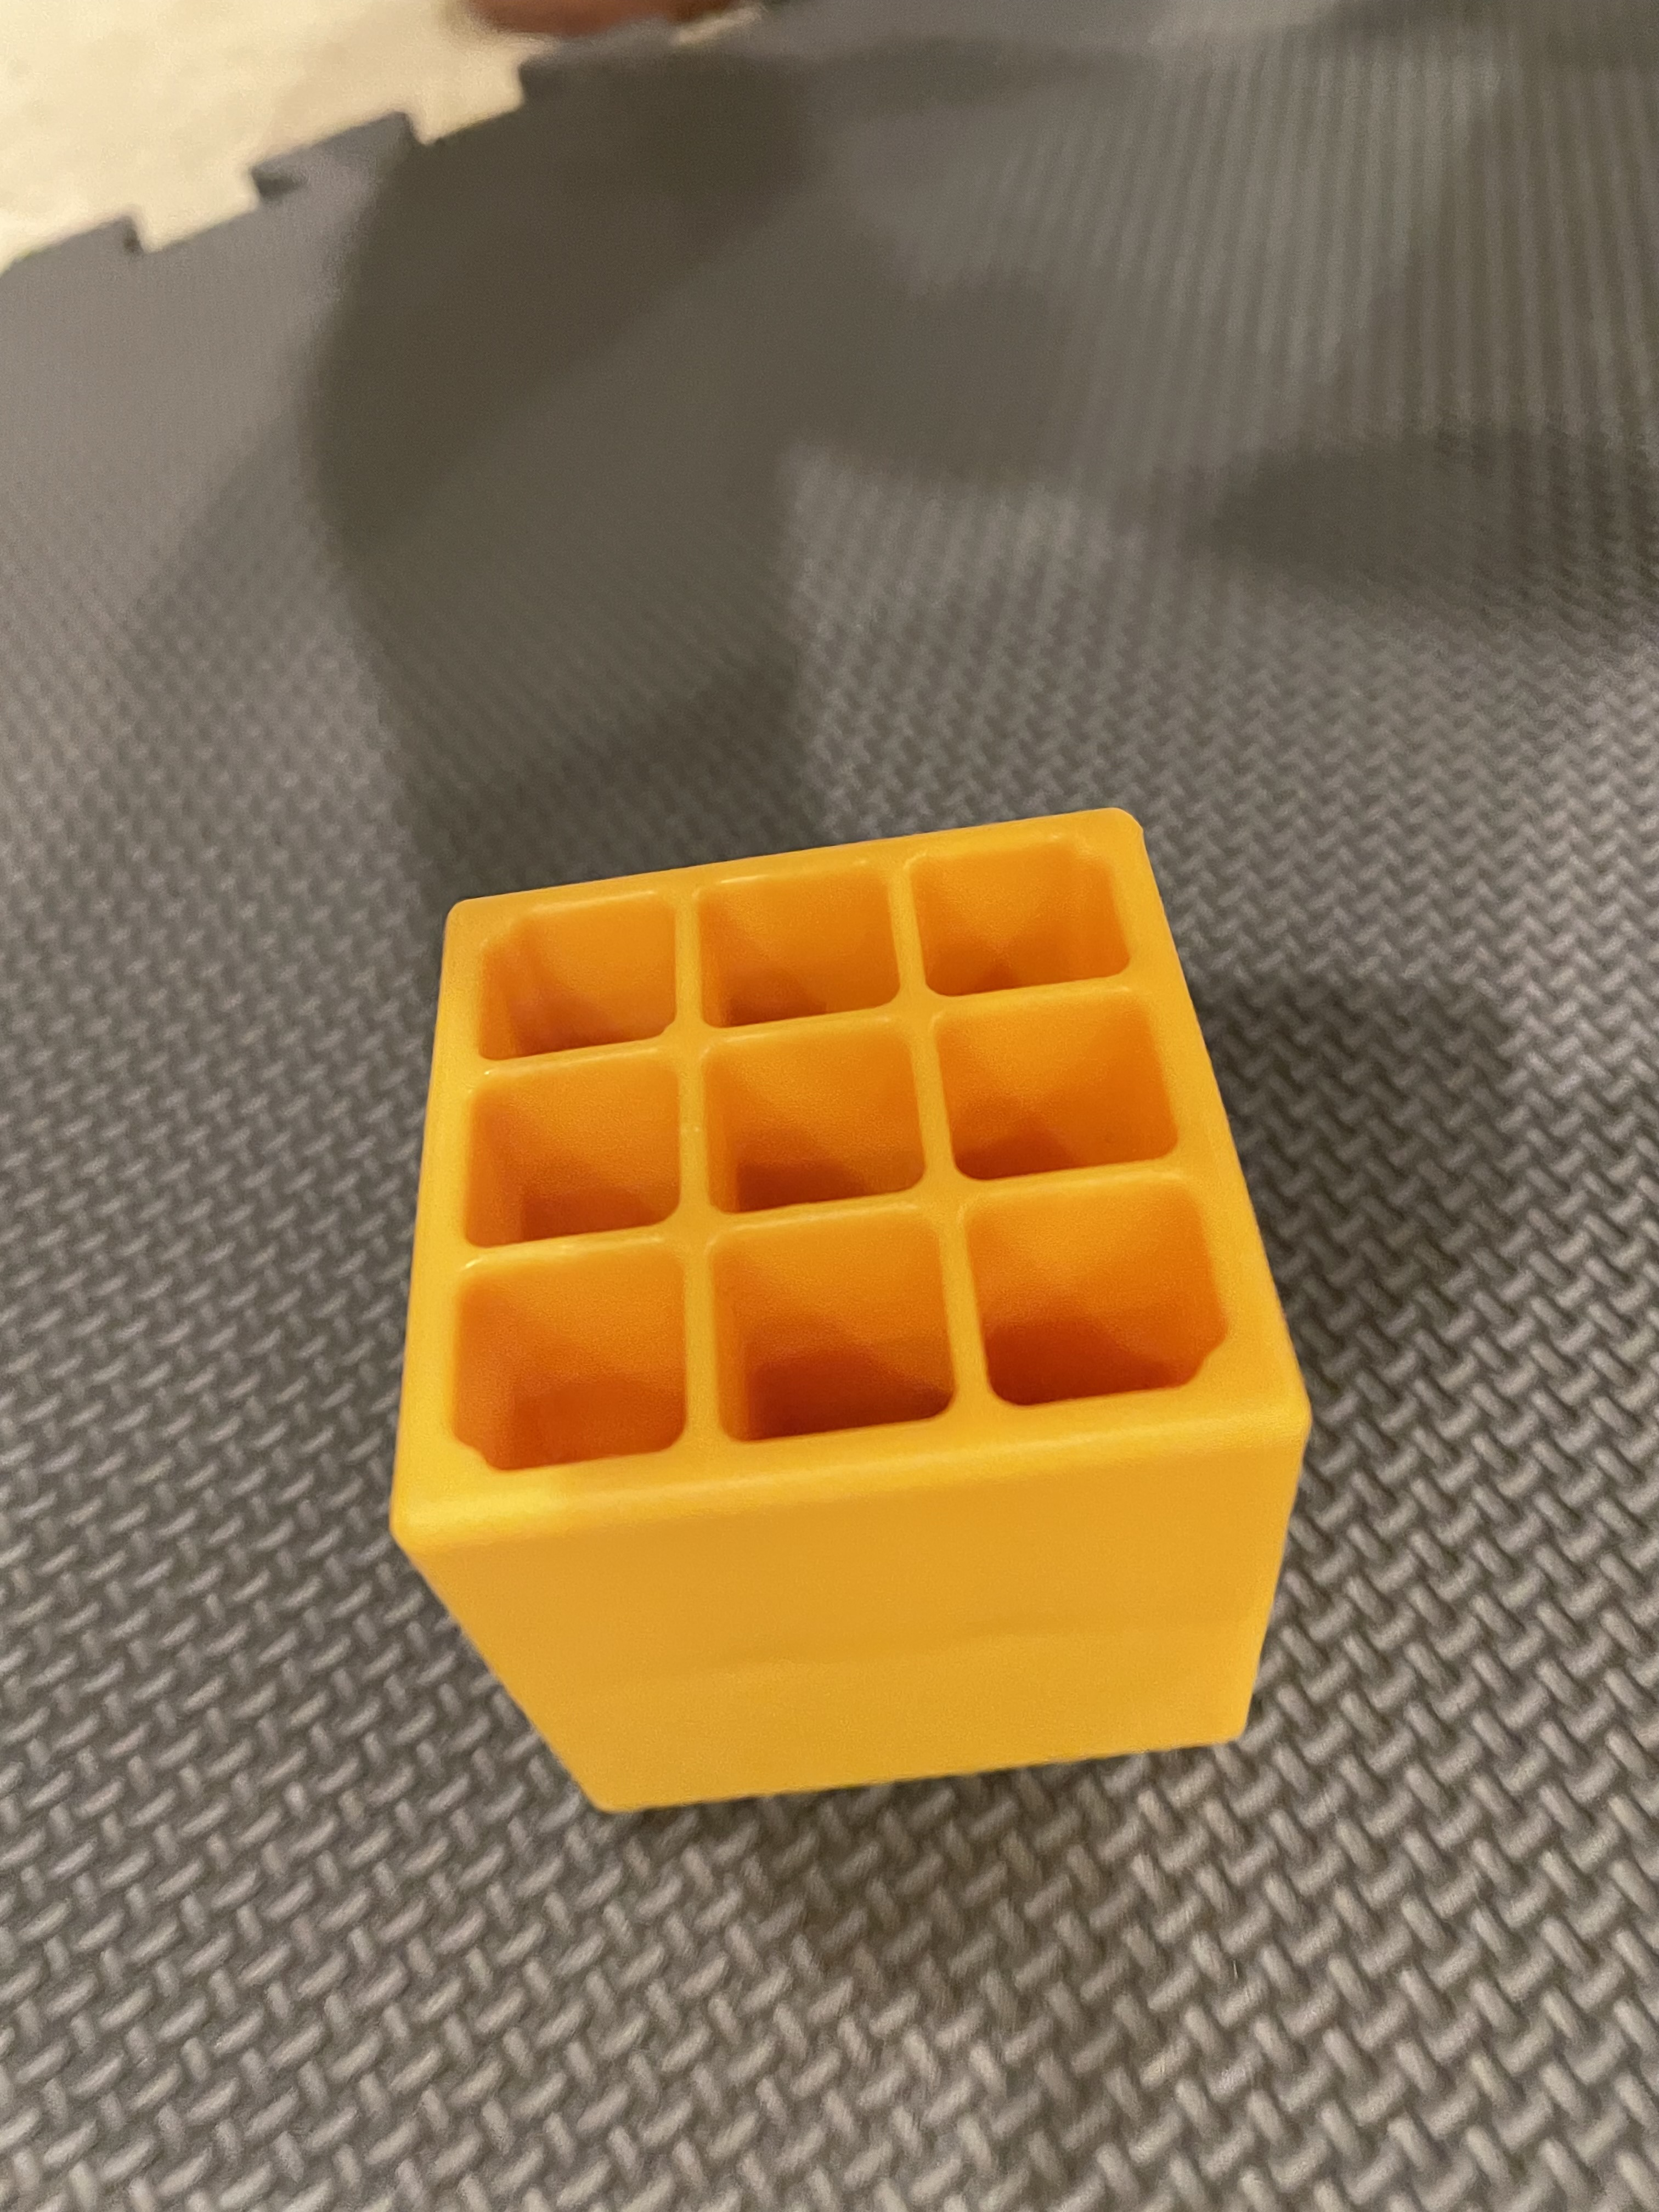cube: (336, 752, 1412, 1876)
